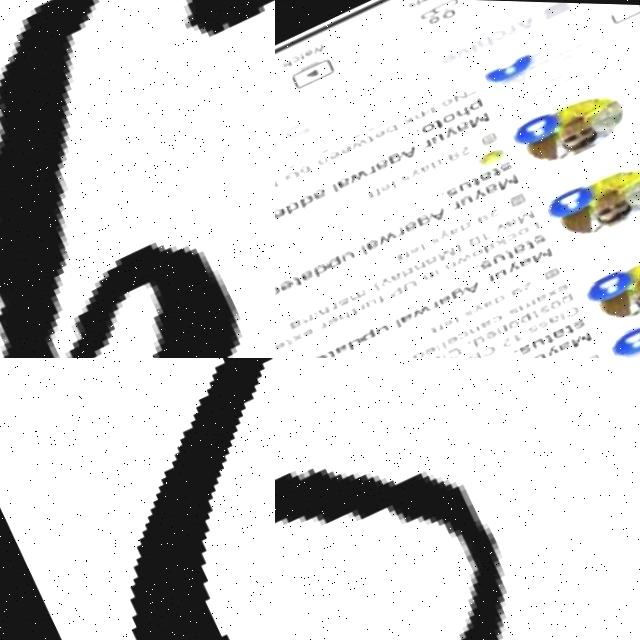0: (469, 232, 484, 245)
1: (516, 330, 524, 338), (483, 230, 491, 238)
2: (0, 358, 275, 640), (502, 332, 517, 346), (459, 143, 472, 154), (523, 278, 535, 289), (488, 206, 500, 216)
5: (297, 161, 313, 175)
9: (447, 147, 463, 160), (511, 283, 524, 294), (478, 210, 491, 221)
G: (0, 0, 275, 358)
S: (275, 358, 640, 640)
